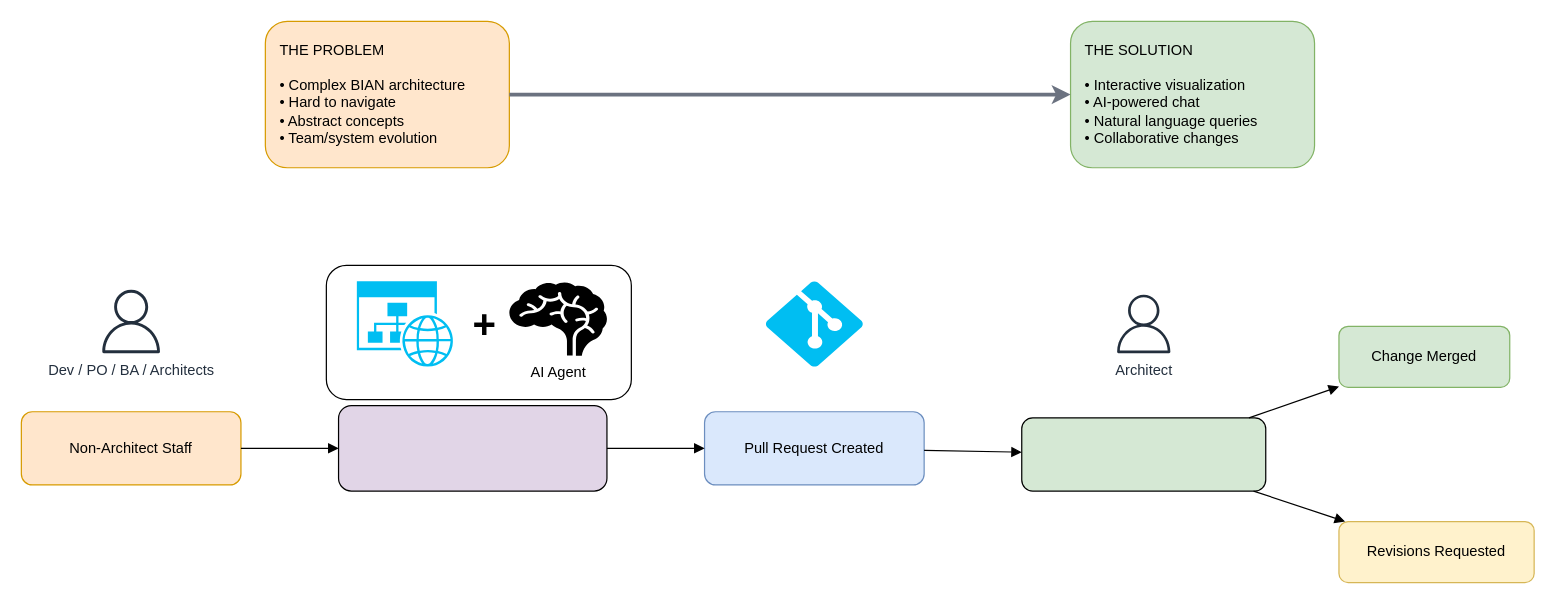
Some shapes in this 1556 by 604 pixel diagram are drawn without their labels. The centre of each missing label's shape, as x and y in pixels:
AAE: the point at 405,323
AAE Tool (Explore & Propose Changes): the point at 472,447
Architect Reviews PR: the point at 1143,454
Pull Request: the point at 814,323
